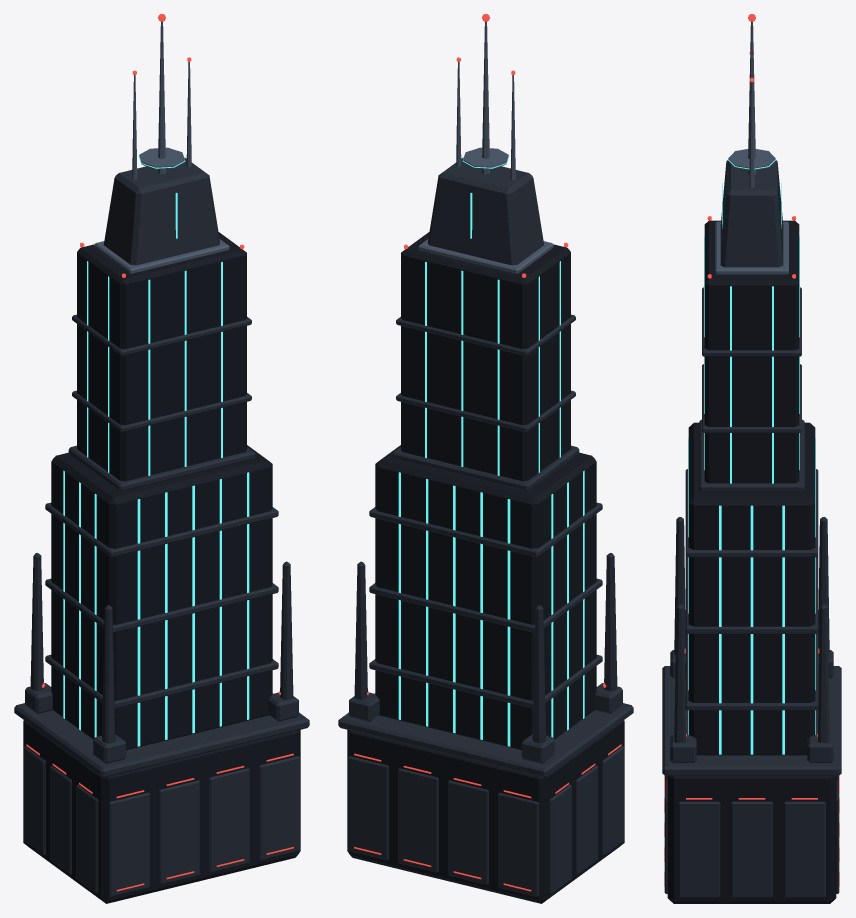
The model's file is Mono_Tower.fbx.
3 views of the same model, side by side, from view 1: azimuth 30°, elevation 25°; view 2: azimuth 150°, elevation 25°; view 3: azimuth 270°, elevation 25° (orthographic).
Parts seen in each view (by area): view 1: Mono_Tower; view 2: Mono_Tower; view 3: Mono_Tower.
Part boxes in pixels (x1=…): Mono_Tower: x1=14, y1=14, x2=309, y2=903; Mono_Tower: x1=338, y1=14, x2=633, y2=903; Mono_Tower: x1=662, y1=14, x2=841, y2=903.
Size of the model in its own units: 46 by 34 by 176.
